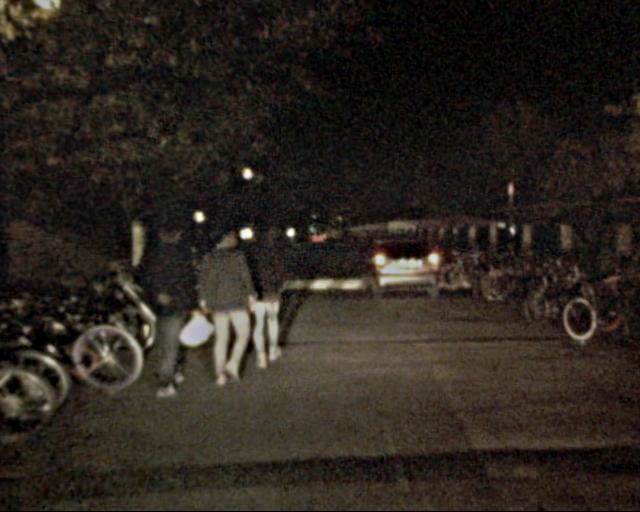person: (127, 216, 202, 400), (189, 225, 257, 387), (235, 222, 295, 372)
